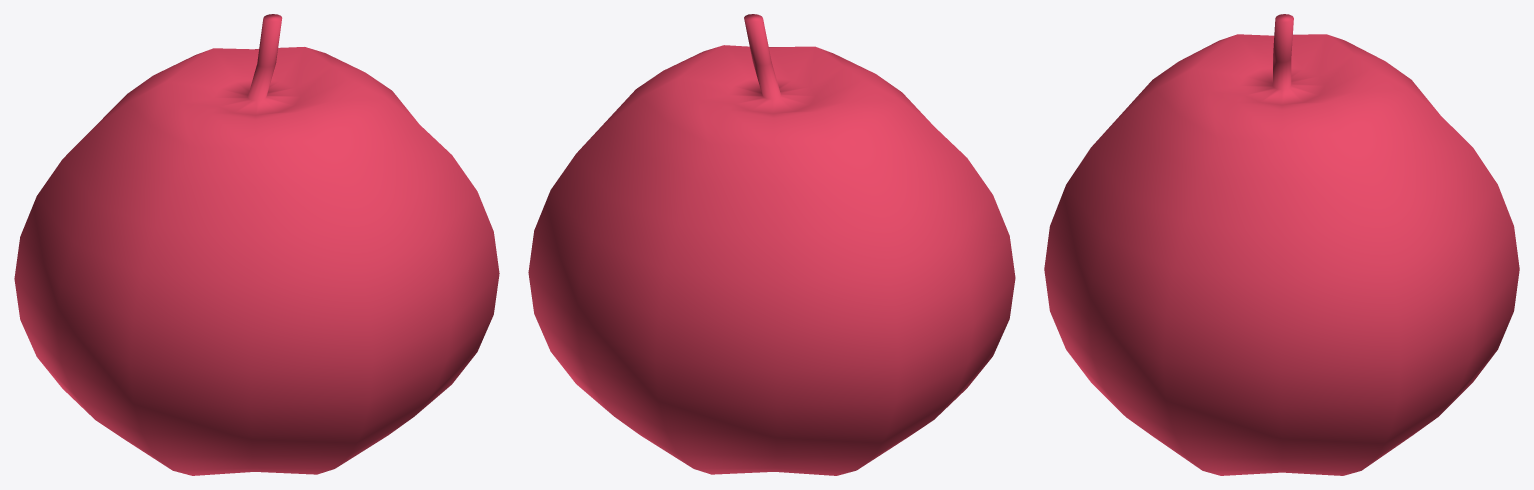
Rendered from acerola.fbx.
The picture shows the model from 3 angles, left to right: view 1: azimuth 30°, elevation 25°; view 2: azimuth 150°, elevation 25°; view 3: azimuth 270°, elevation 25°; orthographic projection. The views are drawn at different scales.
Visible parts, largest first — view 1: Acerola; view 2: Acerola; view 3: Acerola.
Boxes of the visible parts, left/top/right/bottom form: Acerola: left=14, top=14, right=499, bottom=475; Acerola: left=528, top=14, right=1015, bottom=475; Acerola: left=1044, top=14, right=1519, bottom=475.
Size of the model in its own units: 40 by 40 by 40.
